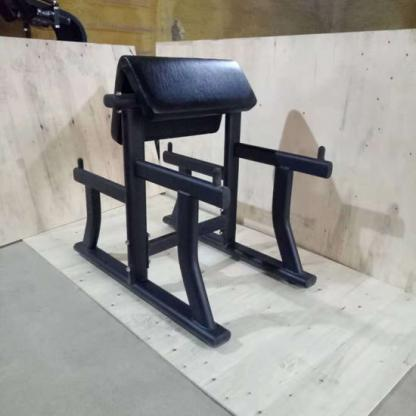arm curl machine: (73, 54, 336, 350)
